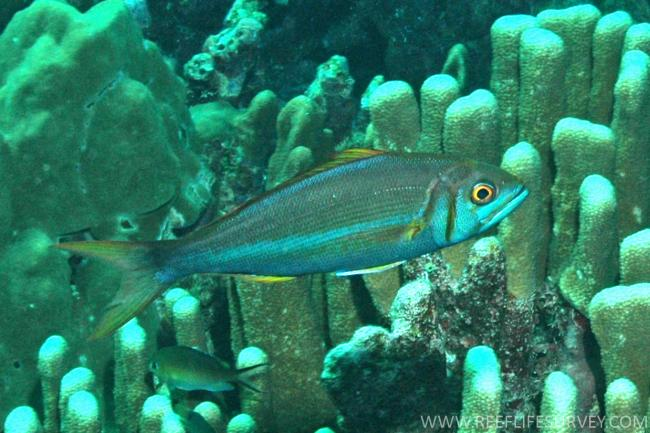fish: (58, 145, 529, 343)
